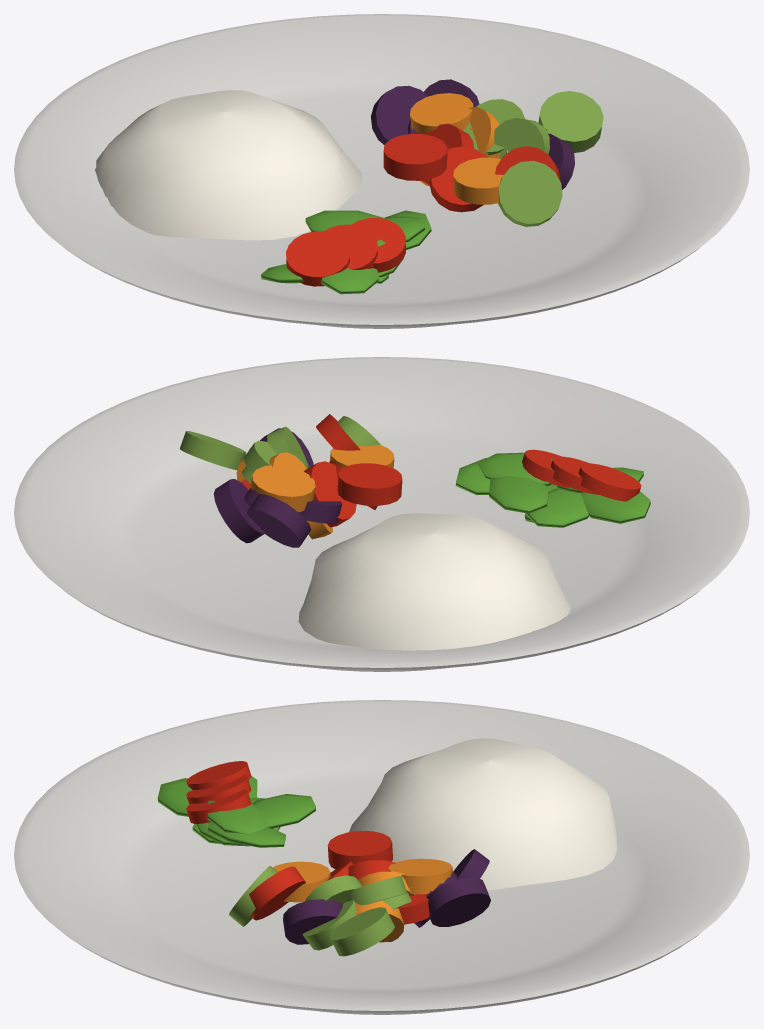
File: prato-legumes.glb
3 renders of one model, top to bottom at view 1: azimuth 30°, elevation 25°; view 2: azimuth 150°, elevation 25°; view 3: azimuth 270°, elevation 25°, orthographic.
Visible parts, largest first — view 1: prato-legumes; view 2: prato-legumes; view 3: prato-legumes.
Boxes of the visible parts, x1=… form: prato-legumes: x1=14, y1=14, x2=749, y2=328; prato-legumes: x1=14, y1=357, x2=749, y2=671; prato-legumes: x1=14, y1=700, x2=749, y2=1014.
Bounding box in the file's own units: 0.274 × 0.042 × 0.274.
